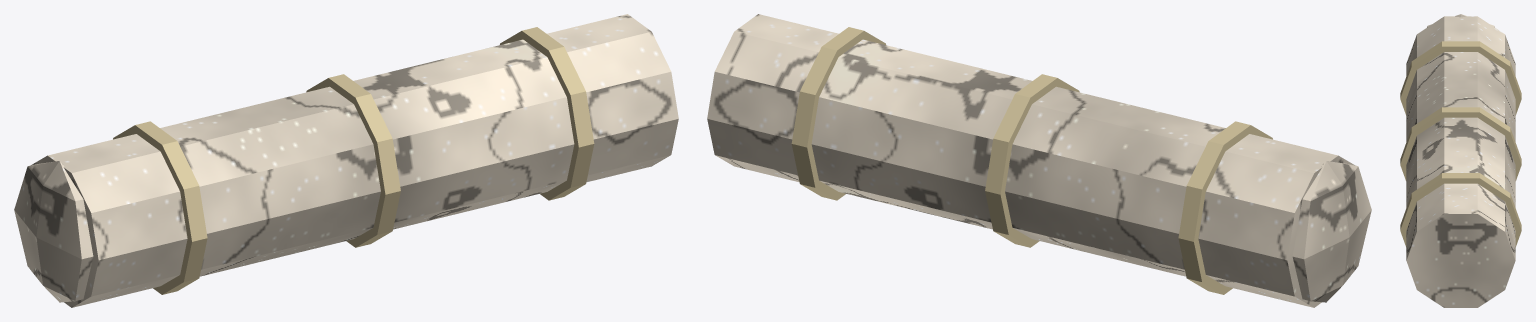
Rendered from p_salame.obj.
3 views of the same model, side by side, from view 1: azimuth 30°, elevation 25°; view 2: azimuth 150°, elevation 25°; view 3: azimuth 270°, elevation 25° (orthographic). The views are drawn at different scales.
Parts seen in each view (by area): view 1: crosta_000, liscio_001; view 2: crosta_000, liscio_001; view 3: crosta_000, liscio_001.
Boxes of the visible parts, bbox=[...] form: crosta_000: bbox=[14, 14, 678, 307]; liscio_001: bbox=[113, 27, 594, 294]; crosta_000: bbox=[707, 14, 1371, 307]; liscio_001: bbox=[791, 27, 1272, 294]; crosta_000: bbox=[1406, 14, 1515, 307]; liscio_001: bbox=[1400, 41, 1521, 246].
Bounding box in the file's own units: 0.312 × 0.0742 × 0.078.
Materials: 2 (1 with a texture image).
